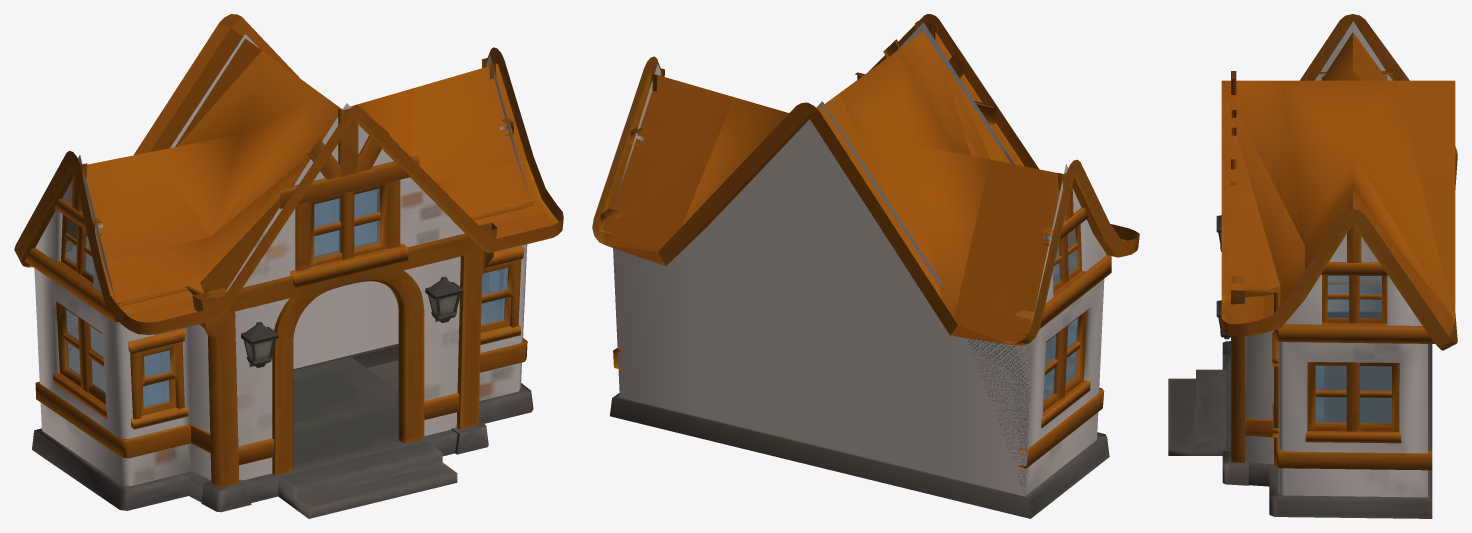
File: wall-pa04-standard.glb
The picture shows the model from 3 angles, left to right: view 1: azimuth 30°, elevation 25°; view 2: azimuth 150°, elevation 25°; view 3: azimuth 270°, elevation 25°; orthographic projection. The views are drawn at different scales.
Bounding box in the file's own units: 48.63 × 39.5 × 29.3.
Materials: 7 (3 with a texture image).
